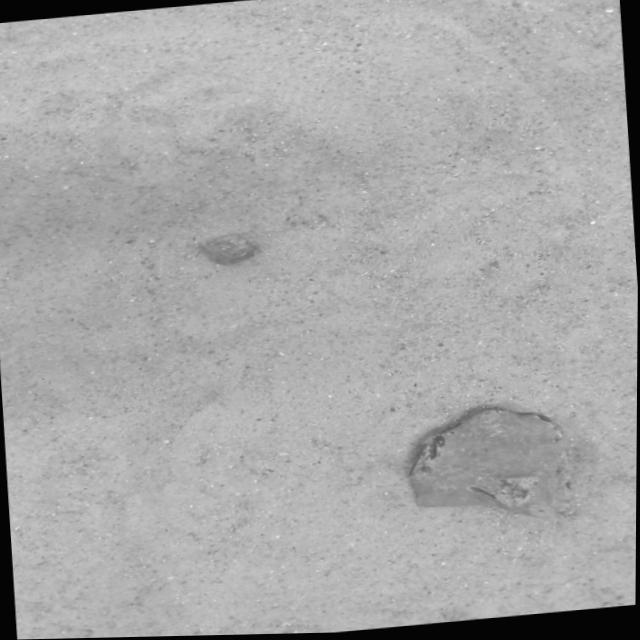rock: (412, 410, 574, 519), (202, 234, 255, 264)
